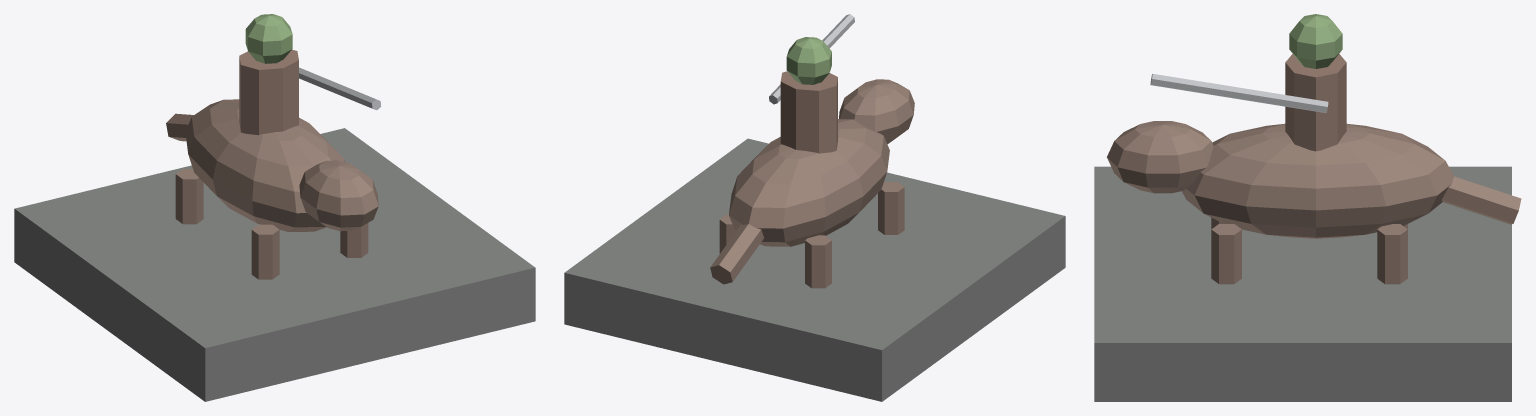
The model's file is orc_boar_cavalry.glb.
The picture shows the model from 3 angles, left to right: view 1: azimuth 30°, elevation 25°; view 2: azimuth 150°, elevation 25°; view 3: azimuth 270°, elevation 25°; orthographic projection. The views are drawn at different scales.
Parts seen in each view (by area): view 1: Base, TurretMesh, Spear; view 2: Base, TurretMesh, Spear; view 3: Base, TurretMesh, Spear.
Boxes of the visible parts, bbox=[...] form: Base: bbox=[14, 128, 535, 401]; TurretMesh: bbox=[166, 14, 378, 279]; Spear: bbox=[299, 67, 381, 110]; Base: bbox=[564, 138, 1065, 401]; TurretMesh: bbox=[710, 37, 914, 288]; Spear: bbox=[769, 14, 854, 104]; Base: bbox=[1094, 166, 1511, 401]; TurretMesh: bbox=[1107, 14, 1521, 284]; Spear: bbox=[1150, 74, 1328, 112].
Size of the model in its own units: 1.8 by 1.42 by 1.84.
